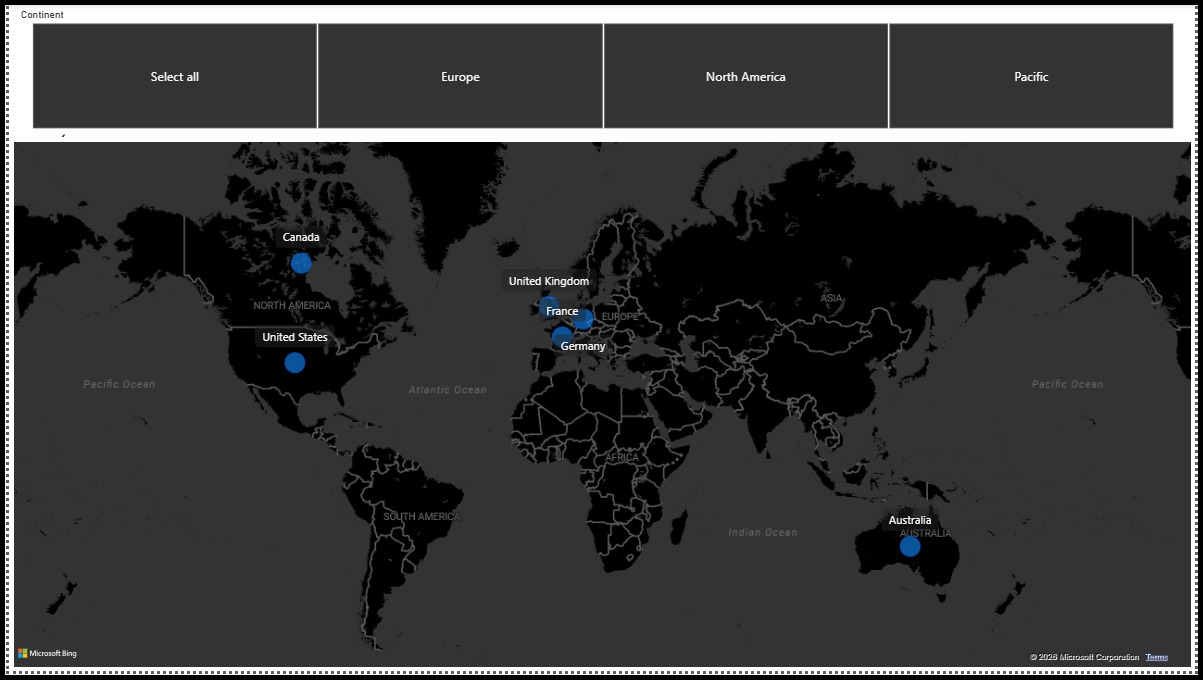

This screenshot's page, from the dashboard's own definition file:
{"tool":"powerbi","page":{"name":"Maps","canvas":[1280,720],"ordinal":5},"visuals":[{"type":"map","fields":{"Category":["Territory Lookup.Continent Hierarchy.Continent","Territory Lookup.Continent Hierarchy.Region","Territory Lookup.Continent Hierarchy.Country"]},"box":[0,124.7,1280.8,595.9],"z":0},{"type":"slicer","fields":{"Values":["Territory Lookup.Continent"]},"box":[0,0,1280.8,140.9],"z":1000}]}

Visuals, with their boxes in screenshot pixels (x1, y1, x2, y2), scaled from the page's 1280x720 canvas onto the 1203x680 screenshot:
map - Territory Lookup.Continent Hierarchy.Continent x Territory Lookup.Continent Hierarchy.Region: detection(0, 118, 1202, 679)
slicer - Territory Lookup.Continent: detection(0, 0, 1202, 133)
